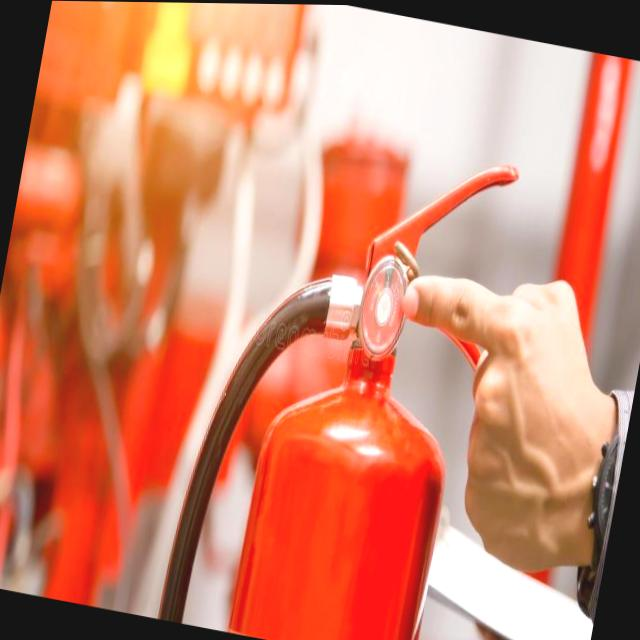FireExtinguisher: (151, 108, 535, 640)
